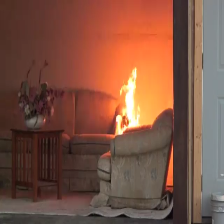fire_h: (115, 68, 139, 136), (164, 142, 175, 191)
